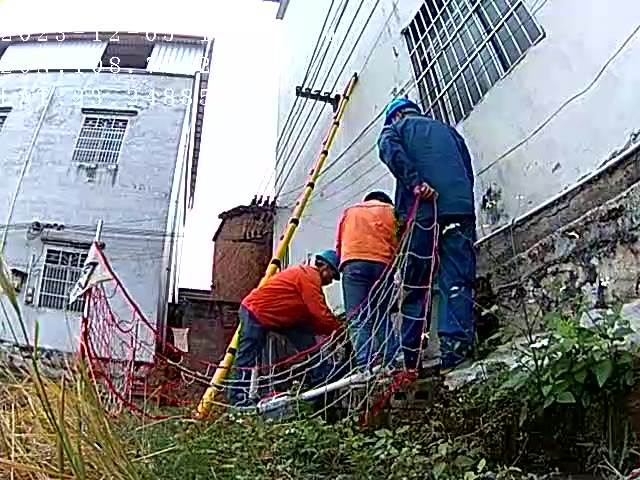downsuit: (400, 222, 477, 337), (343, 262, 394, 354), (235, 311, 264, 391)
halt: (313, 249, 341, 285), (385, 98, 422, 125), (363, 189, 395, 211)
hand: (415, 178, 439, 202)
person: (372, 96, 485, 376), (226, 245, 345, 402)
upsuit: (384, 117, 477, 228)
yupsuit: (242, 264, 332, 335), (338, 203, 398, 269)
